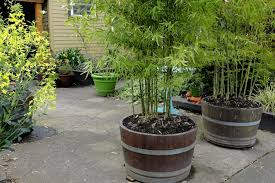bamboo: (99, 1, 220, 80), (192, 4, 273, 96), (140, 1, 176, 113)
